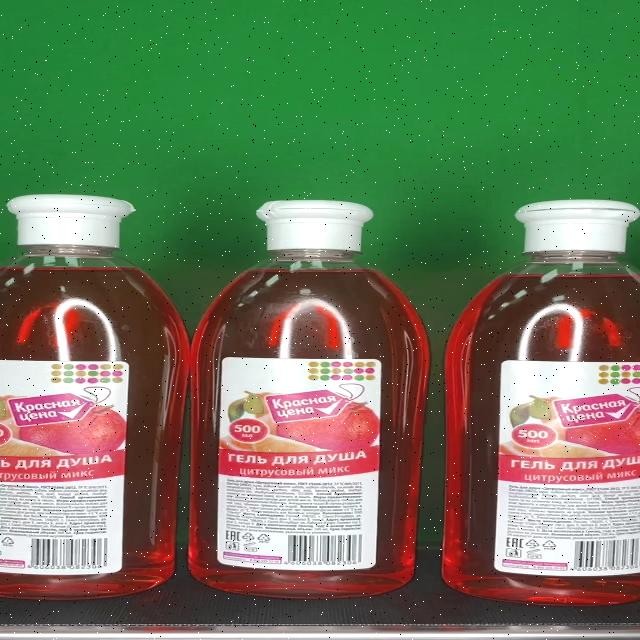Bottle: (189, 201, 428, 598), (444, 198, 640, 606), (0, 194, 191, 599)
Cap: (5, 194, 134, 247), (516, 198, 640, 252), (255, 201, 372, 251)
